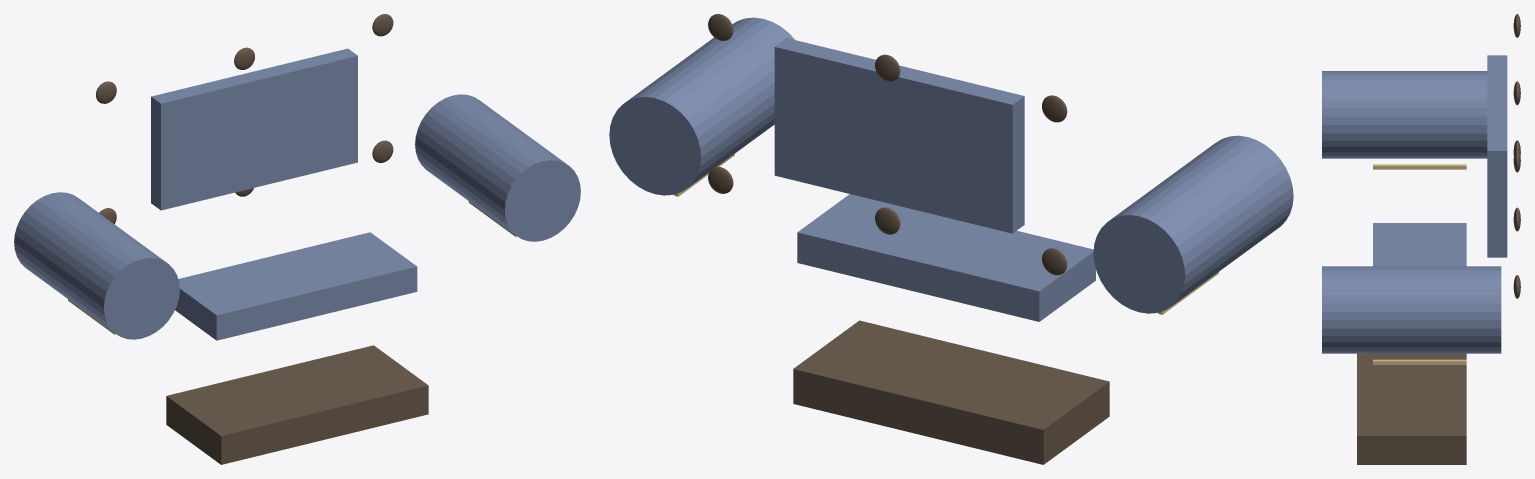
The model's file is banquette.glb.
3 renders of one model, left to right at view 1: azimuth 30°, elevation 25°; view 2: azimuth 150°, elevation 25°; view 3: azimuth 270°, elevation 25°, orthographic. The views are drawn at different scales.
Parts seen in each view (by area): view 1: back_cushion, plinth, seat_cushion, Cylinder.001, Cylinder; view 2: back_cushion, plinth, Cylinder, seat_cushion, Cylinder.001; view 3: Cylinder.001, Cylinder, plinth, back_cushion, seat_cushion, seat_edge, seat_edge.001.
Part boxes in pixels (<box>): back_cushion: <box>151,48,357,210</box>; plinth: <box>166,345,428,464</box>; seat_cushion: <box>175,232,417,340</box>; Cylinder.001: <box>415,94,580,241</box>; Cylinder: <box>14,192,179,339</box>; back_cushion: <box>774,38,1024,233</box>; plinth: <box>793,320,1109,464</box>; Cylinder: <box>1093,135,1293,313</box>; seat_cushion: <box>797,194,1095,321</box>; Cylinder.001: <box>609,17,794,195</box>; Cylinder.001: <box>1322,266,1501,353</box>; Cylinder: <box>1322,71,1487,158</box>; plinth: <box>1357,353,1466,464</box>; back_cushion: <box>1487,55,1507,257</box>; seat_cushion: <box>1373,223,1466,266</box>; seat_edge: <box>1373,164,1466,169</box>; seat_edge.001: <box>1373,359,1466,364</box>.
Size of the model in its own units: 1.38 by 0.92 by 0.499.
